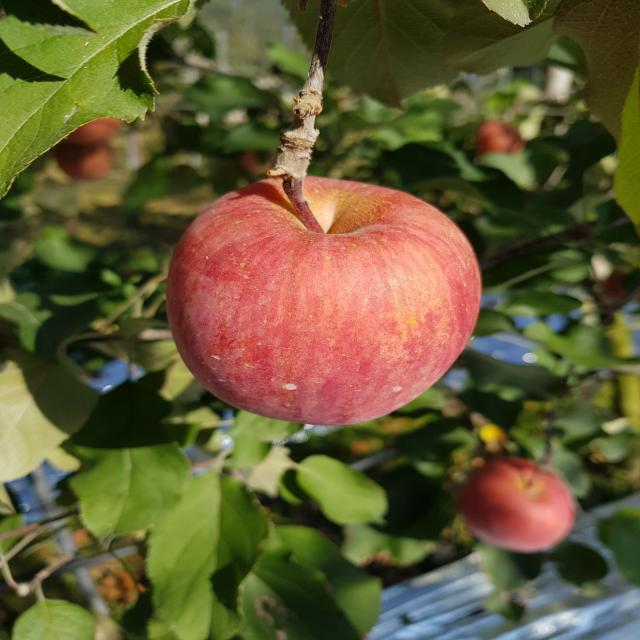fresh: (156, 168, 496, 443)
